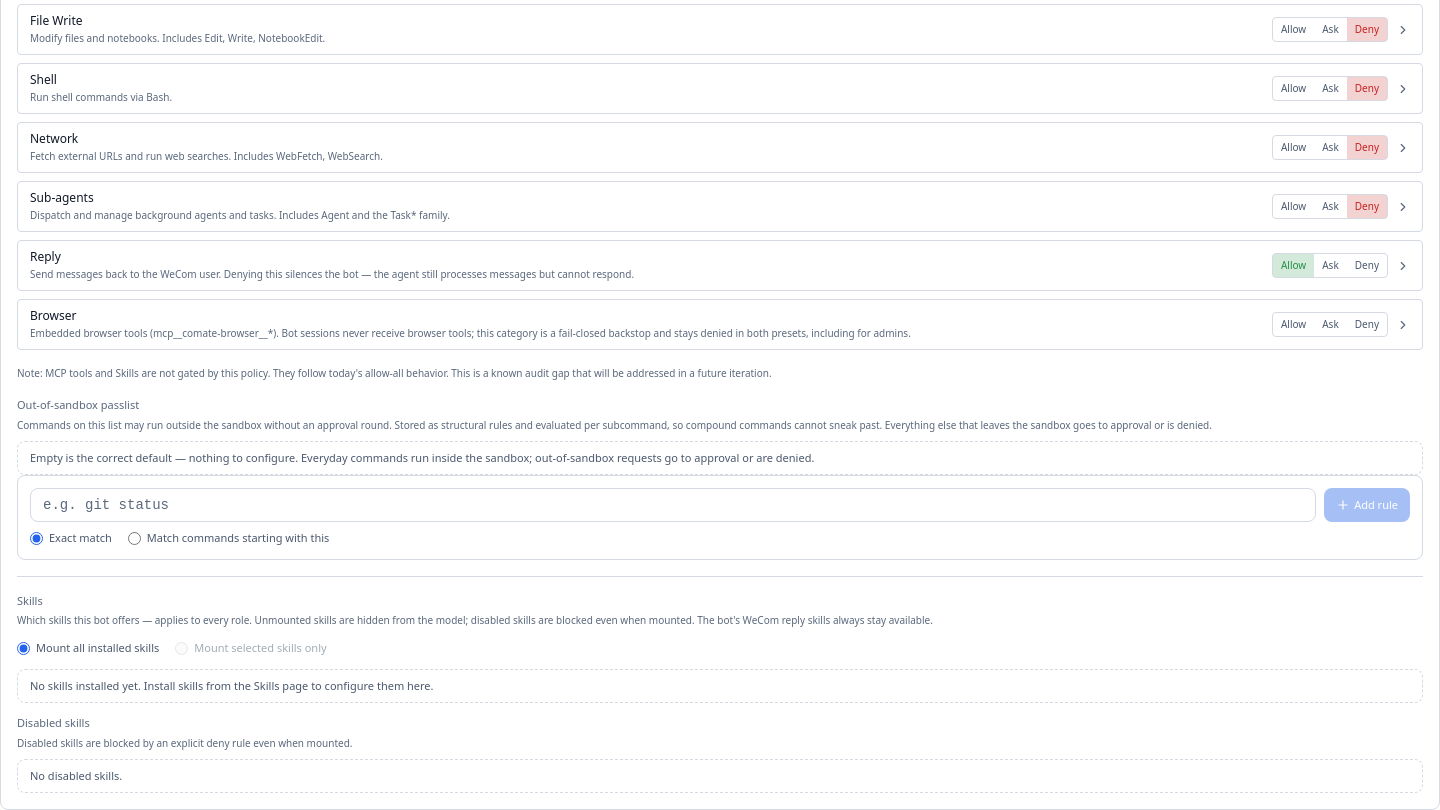
BotRolePermissions › previews exact-match semantics by default and prefix semantics after switching
The image size is (1440, 810).
(page scrolled)
In the field with placeholder "e.g. git status": (673, 505) [30,488,1316,522], type "git status"
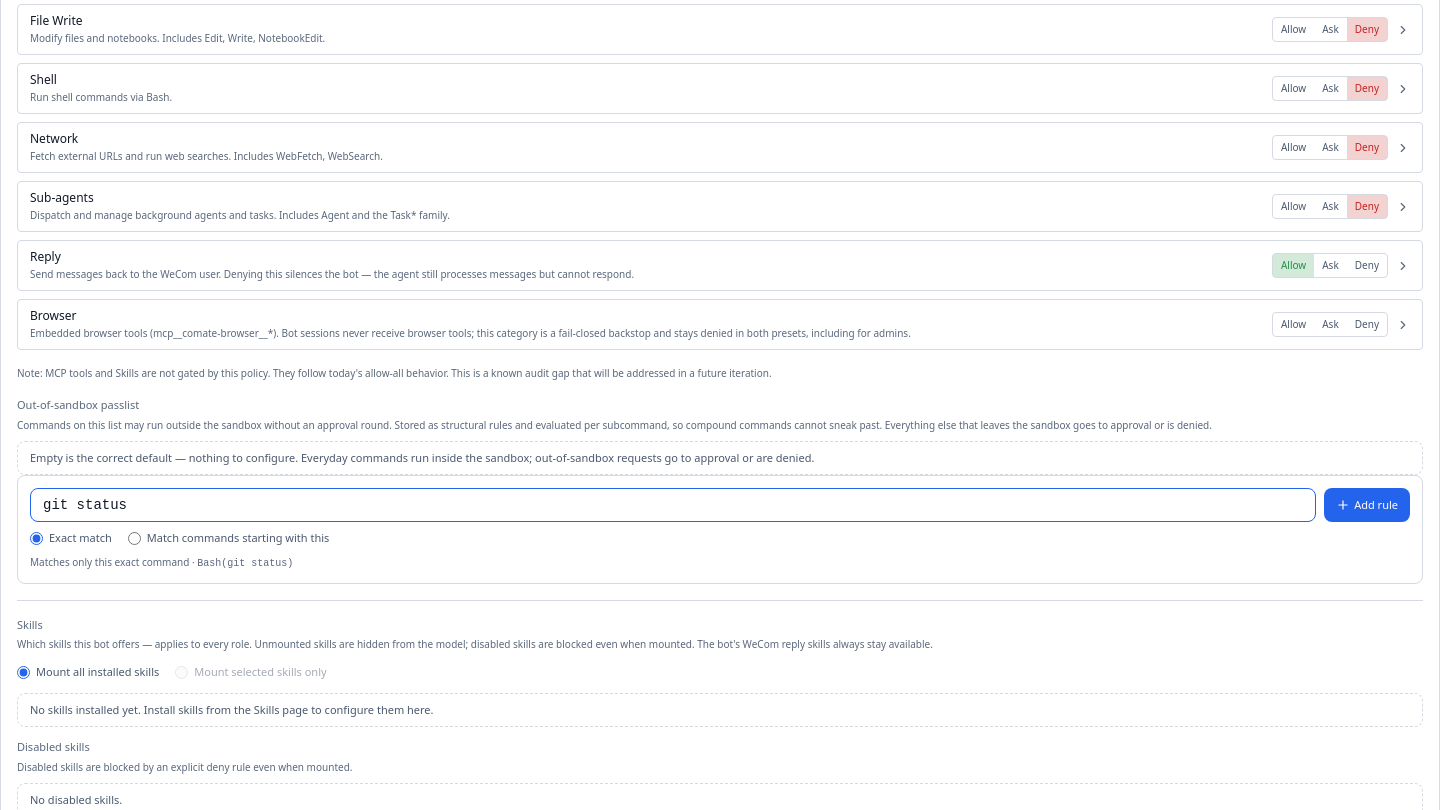
Check: the text "Matches only this exact command · Bash(git status)" is shown, box [30,554,293,568]
Check: the text "Bash(git status)" is shown, box [197,558,293,568]
Click the radio button labelled "Match commands starting with this": click(134, 538) [128,532,141,545]
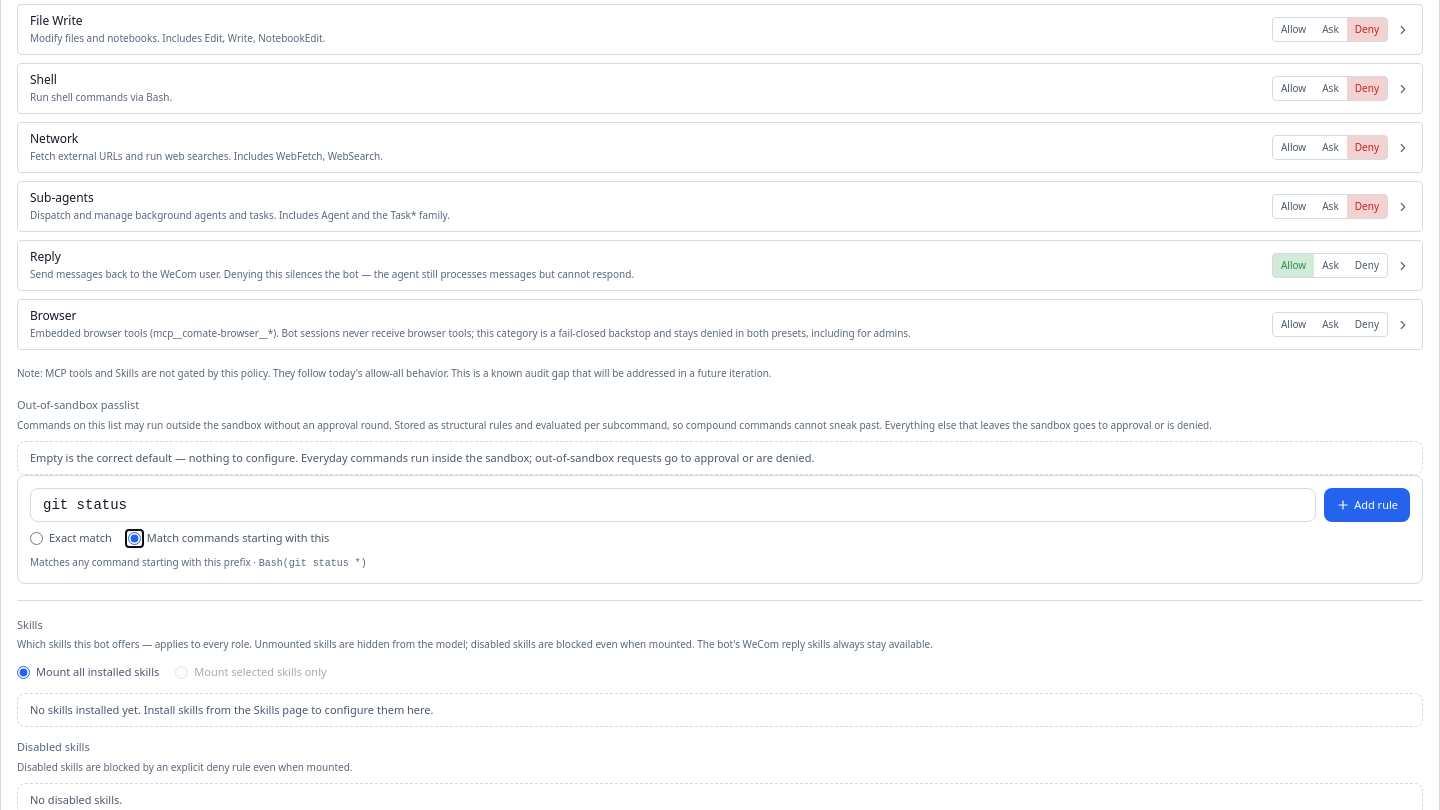
Check: the text "Matches any command starting with this prefix" is shown, box [30,554,251,568]
Check: the text "Bash(git status *)" is shown, box [259,558,367,568]
